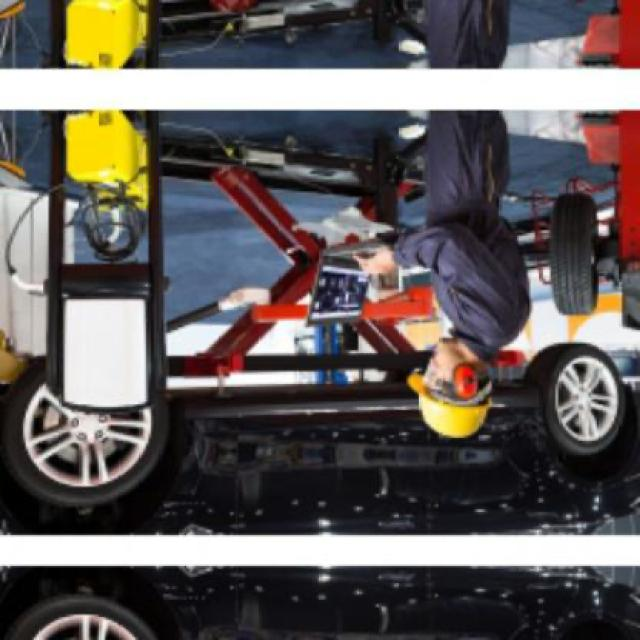con casco: (384, 336, 516, 437)
